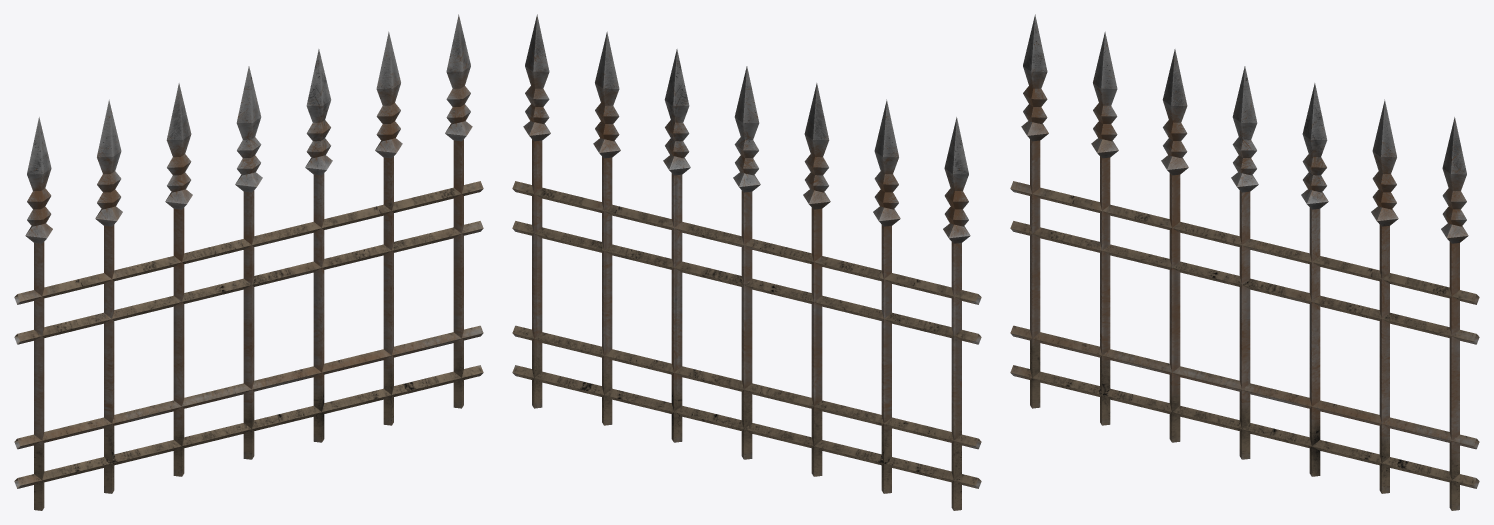
Rendered from fence_metal_01.FBX.
3 views of the same model, side by side, from view 1: azimuth 30°, elevation 25°; view 2: azimuth 150°, elevation 25°; view 3: azimuth 330°, elevation 25° (orthographic).
Parts seen in each view (by area): view 1: Cylinder010, Cylinder009, Cylinder011, Cylinder008, Cylinder003, Cylinder002, Cylinder001, Cylinder007, Cylinder006, Cylinder005, Cylinder004, Box007 (+6 smaller); view 2: Cylinder010, Cylinder009, Cylinder011, Cylinder008, Cylinder003, Cylinder002, Cylinder001, Cylinder007, Cylinder006, Cylinder005, Cylinder004, Box007 (+6 smaller); view 3: Cylinder010, Cylinder009, Cylinder011, Cylinder008, Cylinder001, Cylinder002, Cylinder003, Cylinder005, Cylinder004, Cylinder007, Cylinder006, Box003 (+6 smaller).
Boxes of the visible parts, x1=… form: Cylinder010: x1=14, y1=325, x2=483, y2=449; Cylinder009: x1=14, y1=221, x2=483, y2=344; Cylinder011: x1=14, y1=365, x2=483, y2=488; Cylinder008: x1=14, y1=181, x2=483, y2=304; Cylinder003: x1=173, y1=207, x2=184, y2=476; Cylinder002: x1=243, y1=190, x2=254, y2=459; Cylinder001: x1=313, y1=173, x2=324, y2=442; Cylinder007: x1=34, y1=242, x2=44, y2=510; Cylinder006: x1=104, y1=225, x2=114, y2=493; Cylinder005: x1=453, y1=139, x2=463, y2=408; Cylinder004: x1=383, y1=156, x2=393, y2=425; Box007: x1=306, y1=49, x2=331, y2=158; Cylinder010: x1=512, y1=325, x2=981, y2=449; Cylinder009: x1=512, y1=221, x2=981, y2=344; Cylinder011: x1=512, y1=365, x2=981, y2=488; Cylinder008: x1=512, y1=181, x2=981, y2=304; Cylinder003: x1=811, y1=207, x2=822, y2=476; Cylinder002: x1=741, y1=190, x2=752, y2=459; Cylinder001: x1=671, y1=173, x2=682, y2=442; Cylinder007: x1=951, y1=242, x2=961, y2=510; Cylinder006: x1=881, y1=225, x2=891, y2=493; Cylinder005: x1=532, y1=139, x2=542, y2=408; Cylinder004: x1=602, y1=156, x2=612, y2=425; Box007: x1=664, y1=49, x2=689, y2=158; Cylinder010: x1=1010, y1=325, x2=1479, y2=449; Cylinder009: x1=1010, y1=221, x2=1479, y2=344; Cylinder011: x1=1010, y1=365, x2=1479, y2=488; Cylinder008: x1=1010, y1=181, x2=1479, y2=304; Cylinder001: x1=1309, y1=207, x2=1320, y2=476; Cylinder002: x1=1239, y1=190, x2=1250, y2=459; Cylinder003: x1=1169, y1=173, x2=1180, y2=442; Cylinder005: x1=1449, y1=242, x2=1459, y2=510; Cylinder004: x1=1379, y1=225, x2=1389, y2=493; Cylinder007: x1=1030, y1=139, x2=1040, y2=408; Cylinder006: x1=1100, y1=156, x2=1110, y2=425; Box003: x1=1162, y1=49, x2=1187, y2=158.
Bounding box in the file's own units: 265 × 214 × 16.
